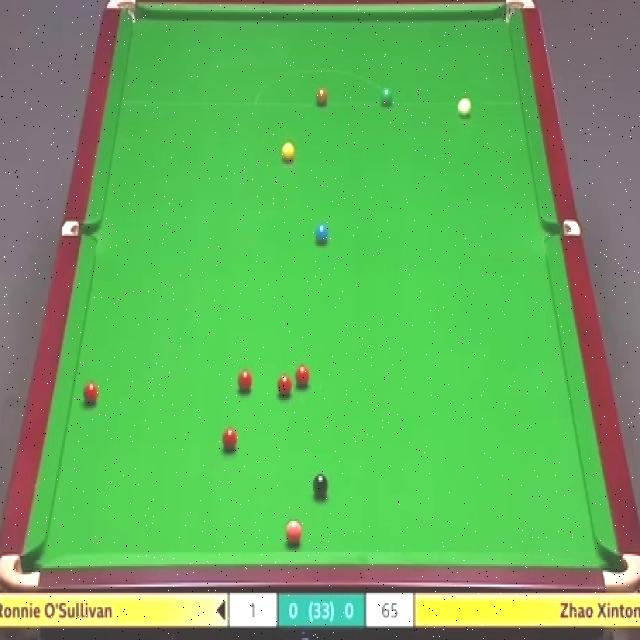black-ball: (312, 471, 328, 500)
blue-ball: (312, 221, 328, 247)
brown-ball: (316, 84, 328, 105)
green-ball: (379, 88, 390, 106)
pink-ball: (285, 518, 304, 545)
red-ball: (237, 369, 256, 395), (221, 426, 239, 453), (82, 381, 99, 407), (279, 373, 294, 396), (296, 365, 309, 389)
white-ball: (454, 96, 474, 118)
yellow-ball: (279, 142, 296, 166)
